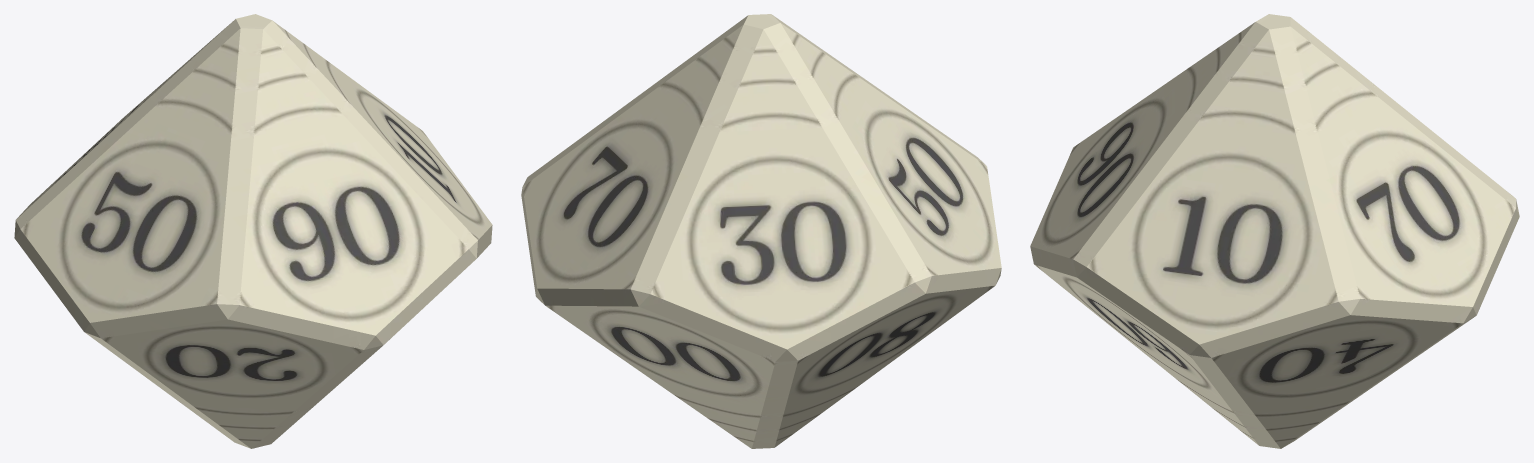
3 renders of one model, left to right at view 1: azimuth 30°, elevation 25°; view 2: azimuth 150°, elevation 25°; view 3: azimuth 270°, elevation 25°, orthographic.
Parts seen in each view (by area): view 1: D10x10; view 2: D10x10; view 3: D10x10.
Part boxes in pixels (<box>): D10x10: <box>14,14,492,448</box>; D10x10: <box>521,14,1001,448</box>; D10x10: <box>1030,14,1519,448</box>.
Size of the model in its own units: 2.95 by 2.93 by 3.1.
1 material, 1 textured.
